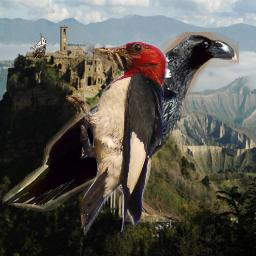Crow: (2, 32, 239, 222)
Woodpecker: (66, 41, 168, 235), (30, 33, 46, 58)
